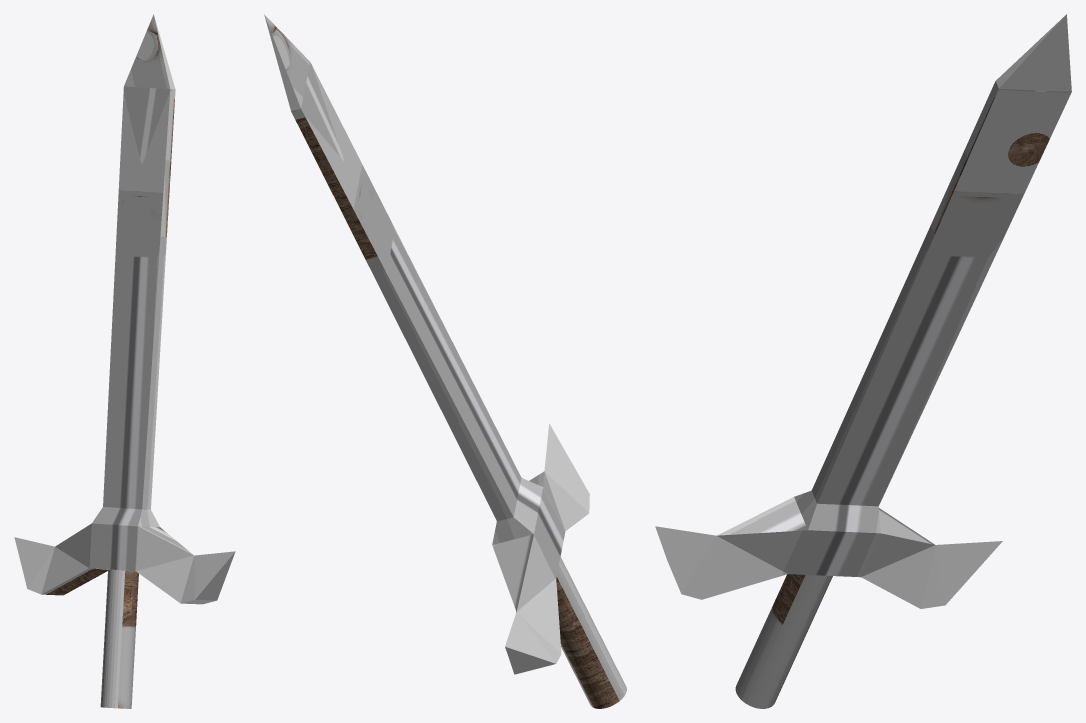
File: Protagonista113.obj
3 views of the same model, side by side, from view 1: azimuth 30°, elevation 25°; view 2: azimuth 150°, elevation 25°; view 3: azimuth 270°, elevation 25° (orthographic). The views are drawn at different scales.
Visible parts, largest first — view 1: Cube; view 2: Cube; view 3: Cube.
Boxes of the visible parts, x1=… form: Cube: x1=14, y1=14, x2=235, y2=708; Cube: x1=264, y1=14, x2=626, y2=708; Cube: x1=655, y1=14, x2=1071, y2=708.
Bounding box in the file's own units: 0.5117 × 1.61 × 0.7696.
Materials: 1 (1 with a texture image).
